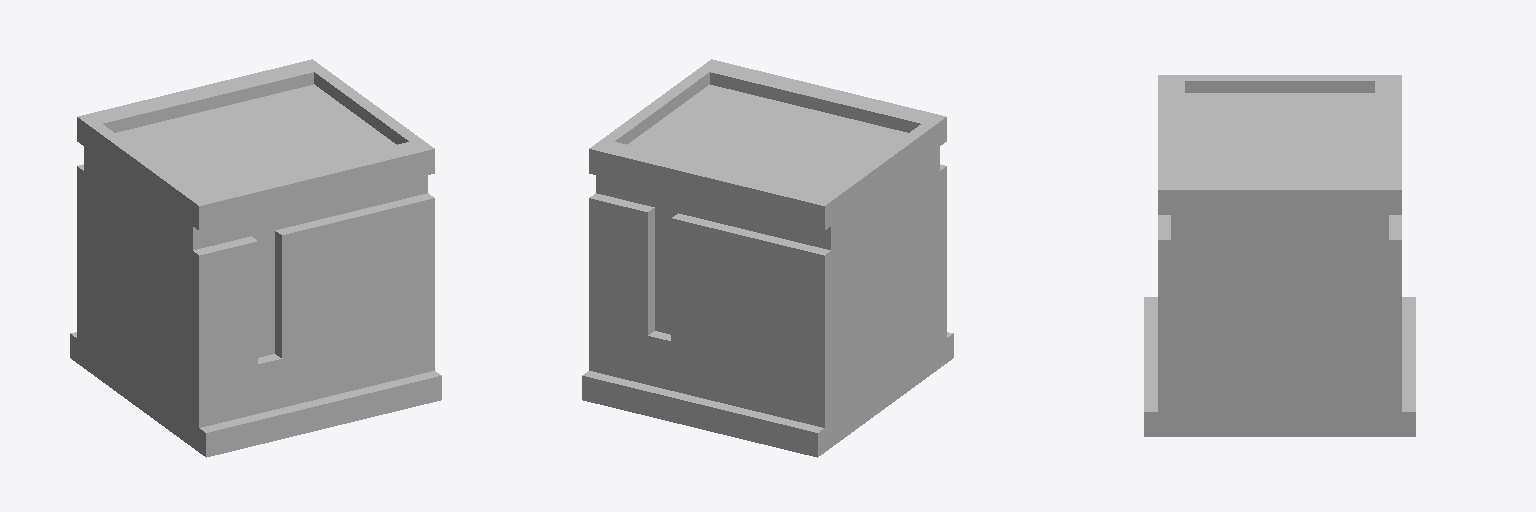
Rendered from Wall_Version_01.obj.
3 views of the same model, side by side, from view 1: azimuth 30°, elevation 25°; view 2: azimuth 150°, elevation 25°; view 3: azimuth 270°, elevation 25° (orthographic).
Parts seen in each view (by area): view 1: Wall_Plane; view 2: Wall_Plane; view 3: Wall_Plane.
Part boxes in pixels (left/top/right/bottom): Wall_Plane: left=70, top=59, right=441, bottom=457; Wall_Plane: left=582, top=59, right=953, bottom=457; Wall_Plane: left=1144, top=75, right=1415, bottom=436.
Size of the model in its own units: 1 by 1 by 1.